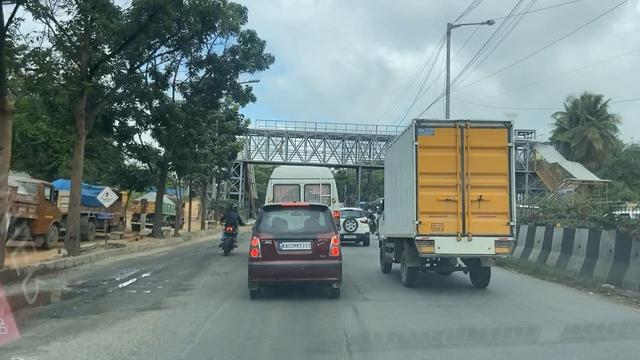HMV: (376, 121, 513, 286)
LMV: (245, 203, 343, 291), (220, 207, 240, 254)
RoadDamages: (42, 254, 181, 315)
UnsurfacedRoad: (187, 288, 236, 359), (327, 304, 360, 360)
